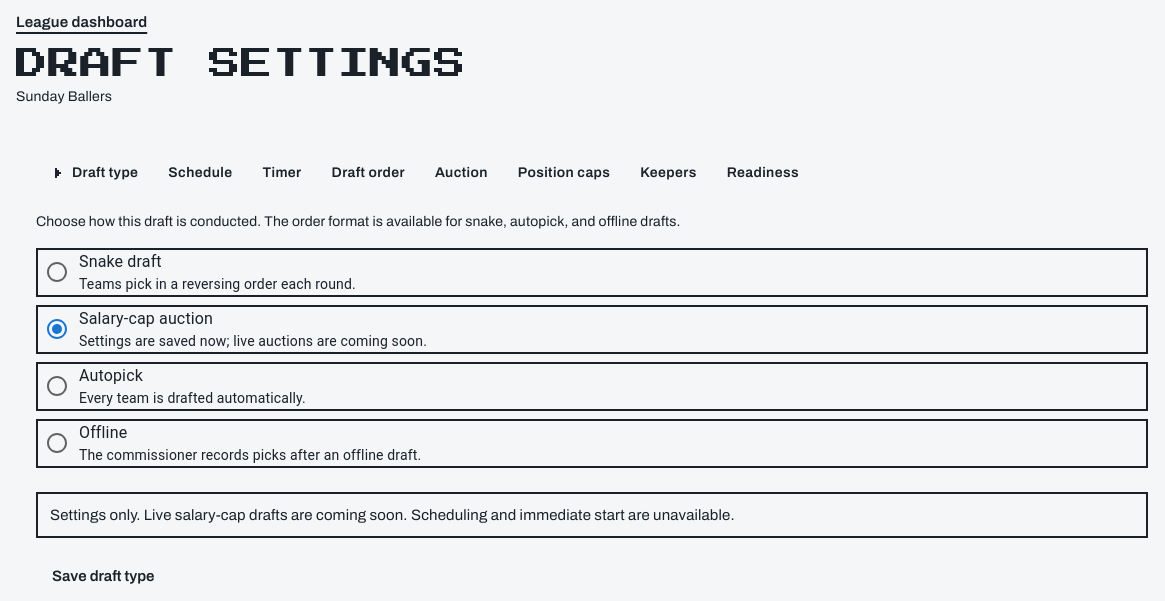
Test: shows saved auction inputs for salary-cap auction drafts
Expected: the text "Sunday Ballers" is shown, [16,89,112,104]
Click the tab "Auction". click: (461, 173)
box: [419,151,504,195]
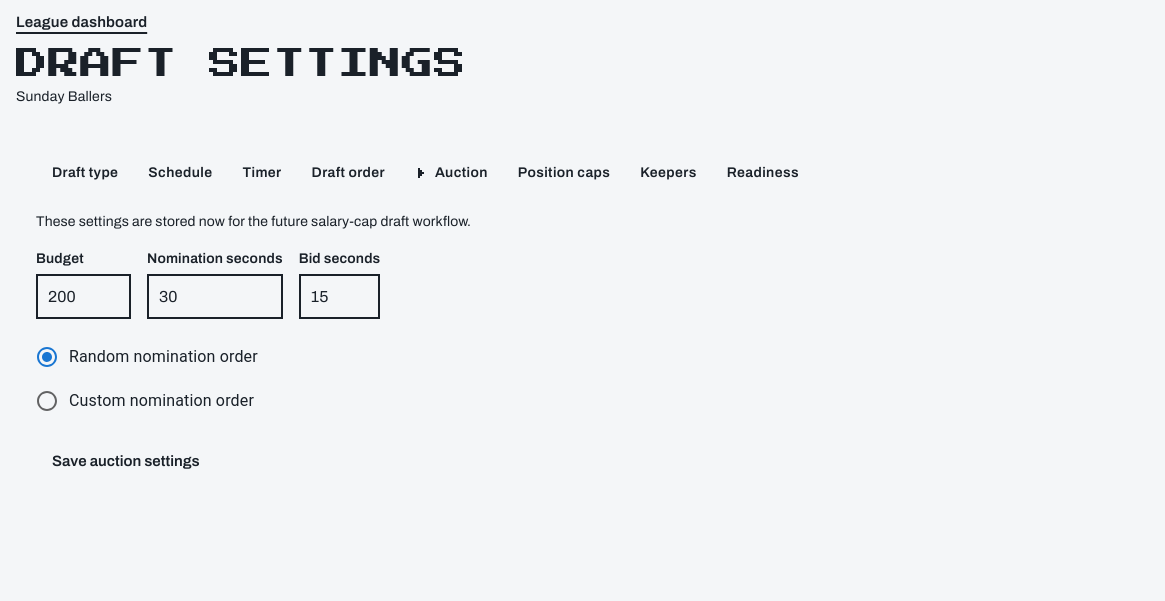
Result: the number field labelled "Budget" is shown at [36,275,131,319]
Result: the text "stored now for the future salary-cap draft workflow" is shown at [36,214,471,229]
